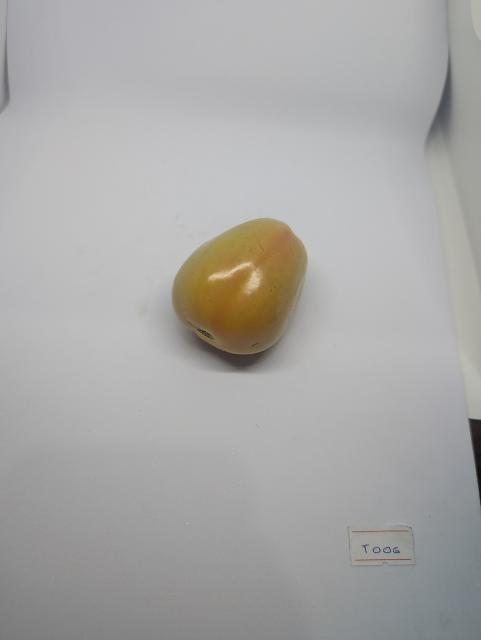breaker: (167, 214, 327, 367)
